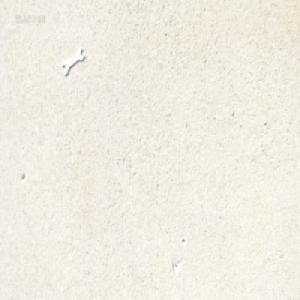Wrench: (62, 43, 85, 74)
